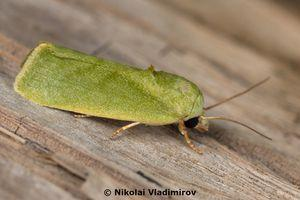insect: (12, 40, 276, 156)
